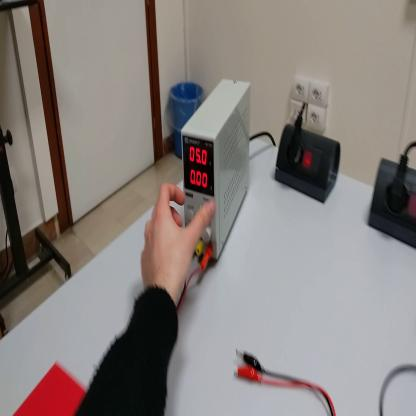hand: (141, 183, 215, 297)
power supply: (182, 82, 254, 267)
socket: (275, 126, 342, 205), (368, 158, 416, 255)
